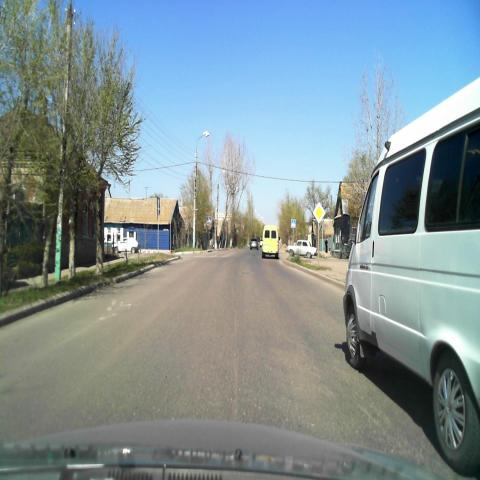2_1: (313, 201, 325, 224)
5_19_1: (291, 218, 297, 228), (206, 216, 212, 224)
